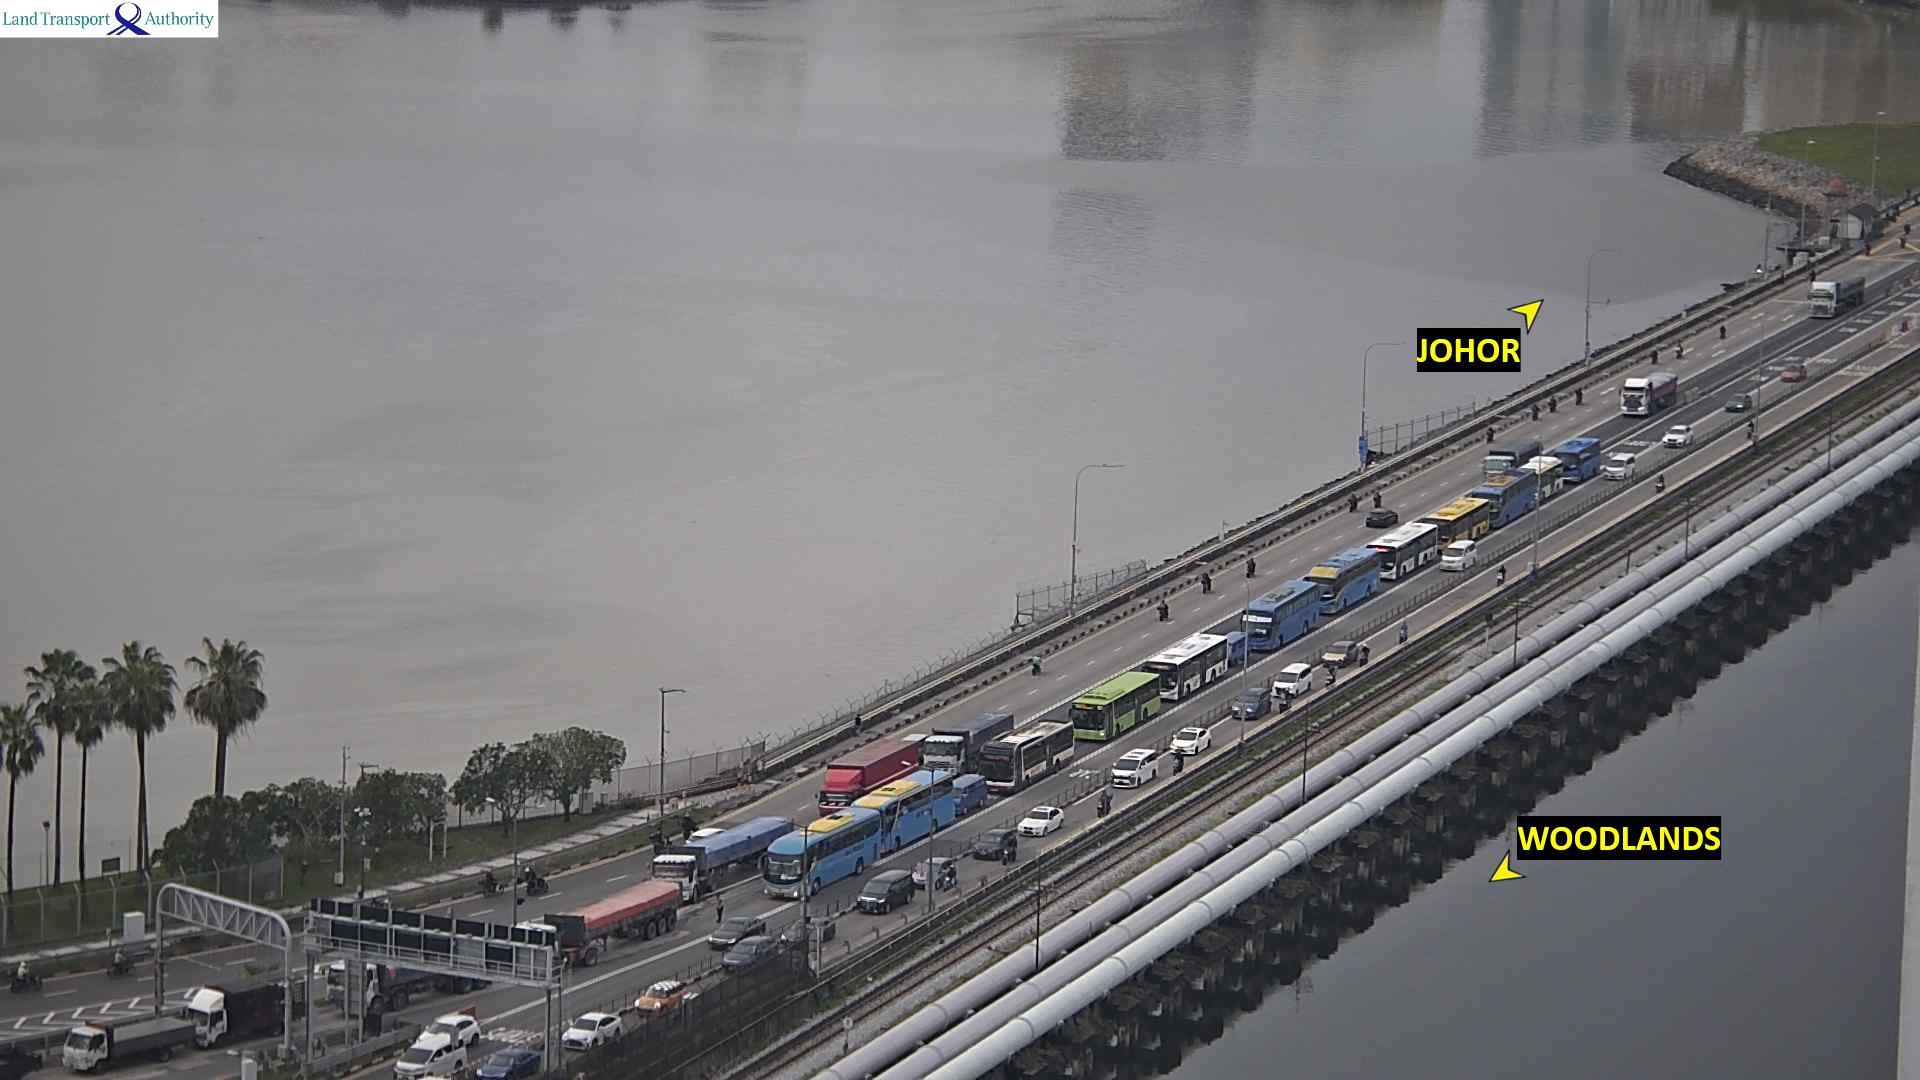vehicle-causeway-johor: (7, 963, 43, 991), (109, 948, 136, 978), (1366, 508, 1399, 526), (481, 871, 503, 895), (1030, 653, 1045, 675), (1200, 573, 1215, 592), (1157, 601, 1169, 622), (1246, 559, 1257, 577), (1678, 341, 1687, 358), (1575, 389, 1585, 403), (1349, 493, 1356, 511), (1487, 428, 1495, 442), (1649, 350, 1658, 362), (1531, 406, 1538, 421), (1373, 493, 1380, 508), (1548, 397, 1556, 410), (1899, 237, 1906, 249), (1865, 243, 1871, 256), (1904, 224, 1911, 234), (1719, 326, 1725, 336), (1810, 270, 1816, 279)
vehicle-causeway-singapore: (764, 811, 878, 899), (550, 883, 694, 951), (65, 1020, 209, 1077), (854, 772, 952, 853), (660, 818, 797, 875), (818, 745, 922, 807), (331, 973, 485, 1014), (191, 981, 303, 1033), (1072, 677, 1168, 737), (1139, 636, 1244, 690), (979, 731, 1076, 785), (924, 715, 1014, 768), (1241, 583, 1318, 637), (1418, 500, 1488, 546), (0, 1029, 68, 1076), (1468, 472, 1541, 515), (1309, 553, 1383, 594), (393, 1037, 461, 1080), (1367, 527, 1443, 562), (851, 873, 913, 912), (559, 1012, 628, 1046), (1622, 375, 1685, 412), (1808, 277, 1863, 318), (632, 979, 683, 1018), (722, 941, 786, 970), (1481, 445, 1542, 475), (418, 1017, 479, 1047), (707, 918, 769, 946), (478, 1053, 544, 1079), (782, 915, 837, 944), (965, 832, 1015, 861), (1019, 808, 1065, 837), (956, 775, 987, 816), (914, 858, 956, 888), (1103, 765, 1157, 787), (1321, 644, 1371, 666), (1274, 665, 1309, 696), (1441, 541, 1476, 571), (1556, 442, 1602, 464), (1230, 698, 1275, 720), (1172, 727, 1209, 750), (1604, 454, 1636, 479), (1530, 459, 1569, 476), (1665, 427, 1696, 445), (1781, 364, 1807, 382), (1095, 790, 1113, 815), (1728, 393, 1752, 411), (1171, 755, 1184, 775), (1496, 565, 1505, 587), (1656, 472, 1664, 491)
